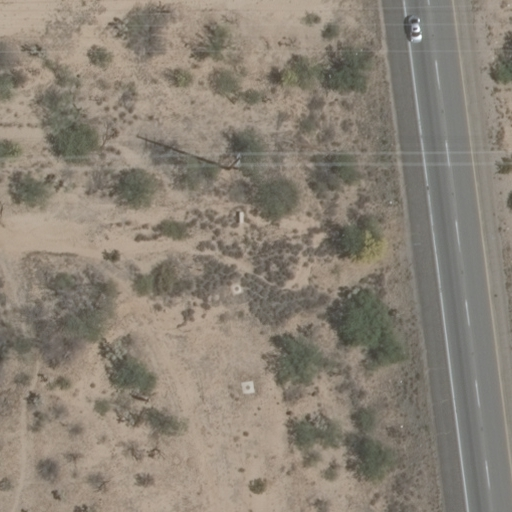DT: (216, 145, 251, 175)
